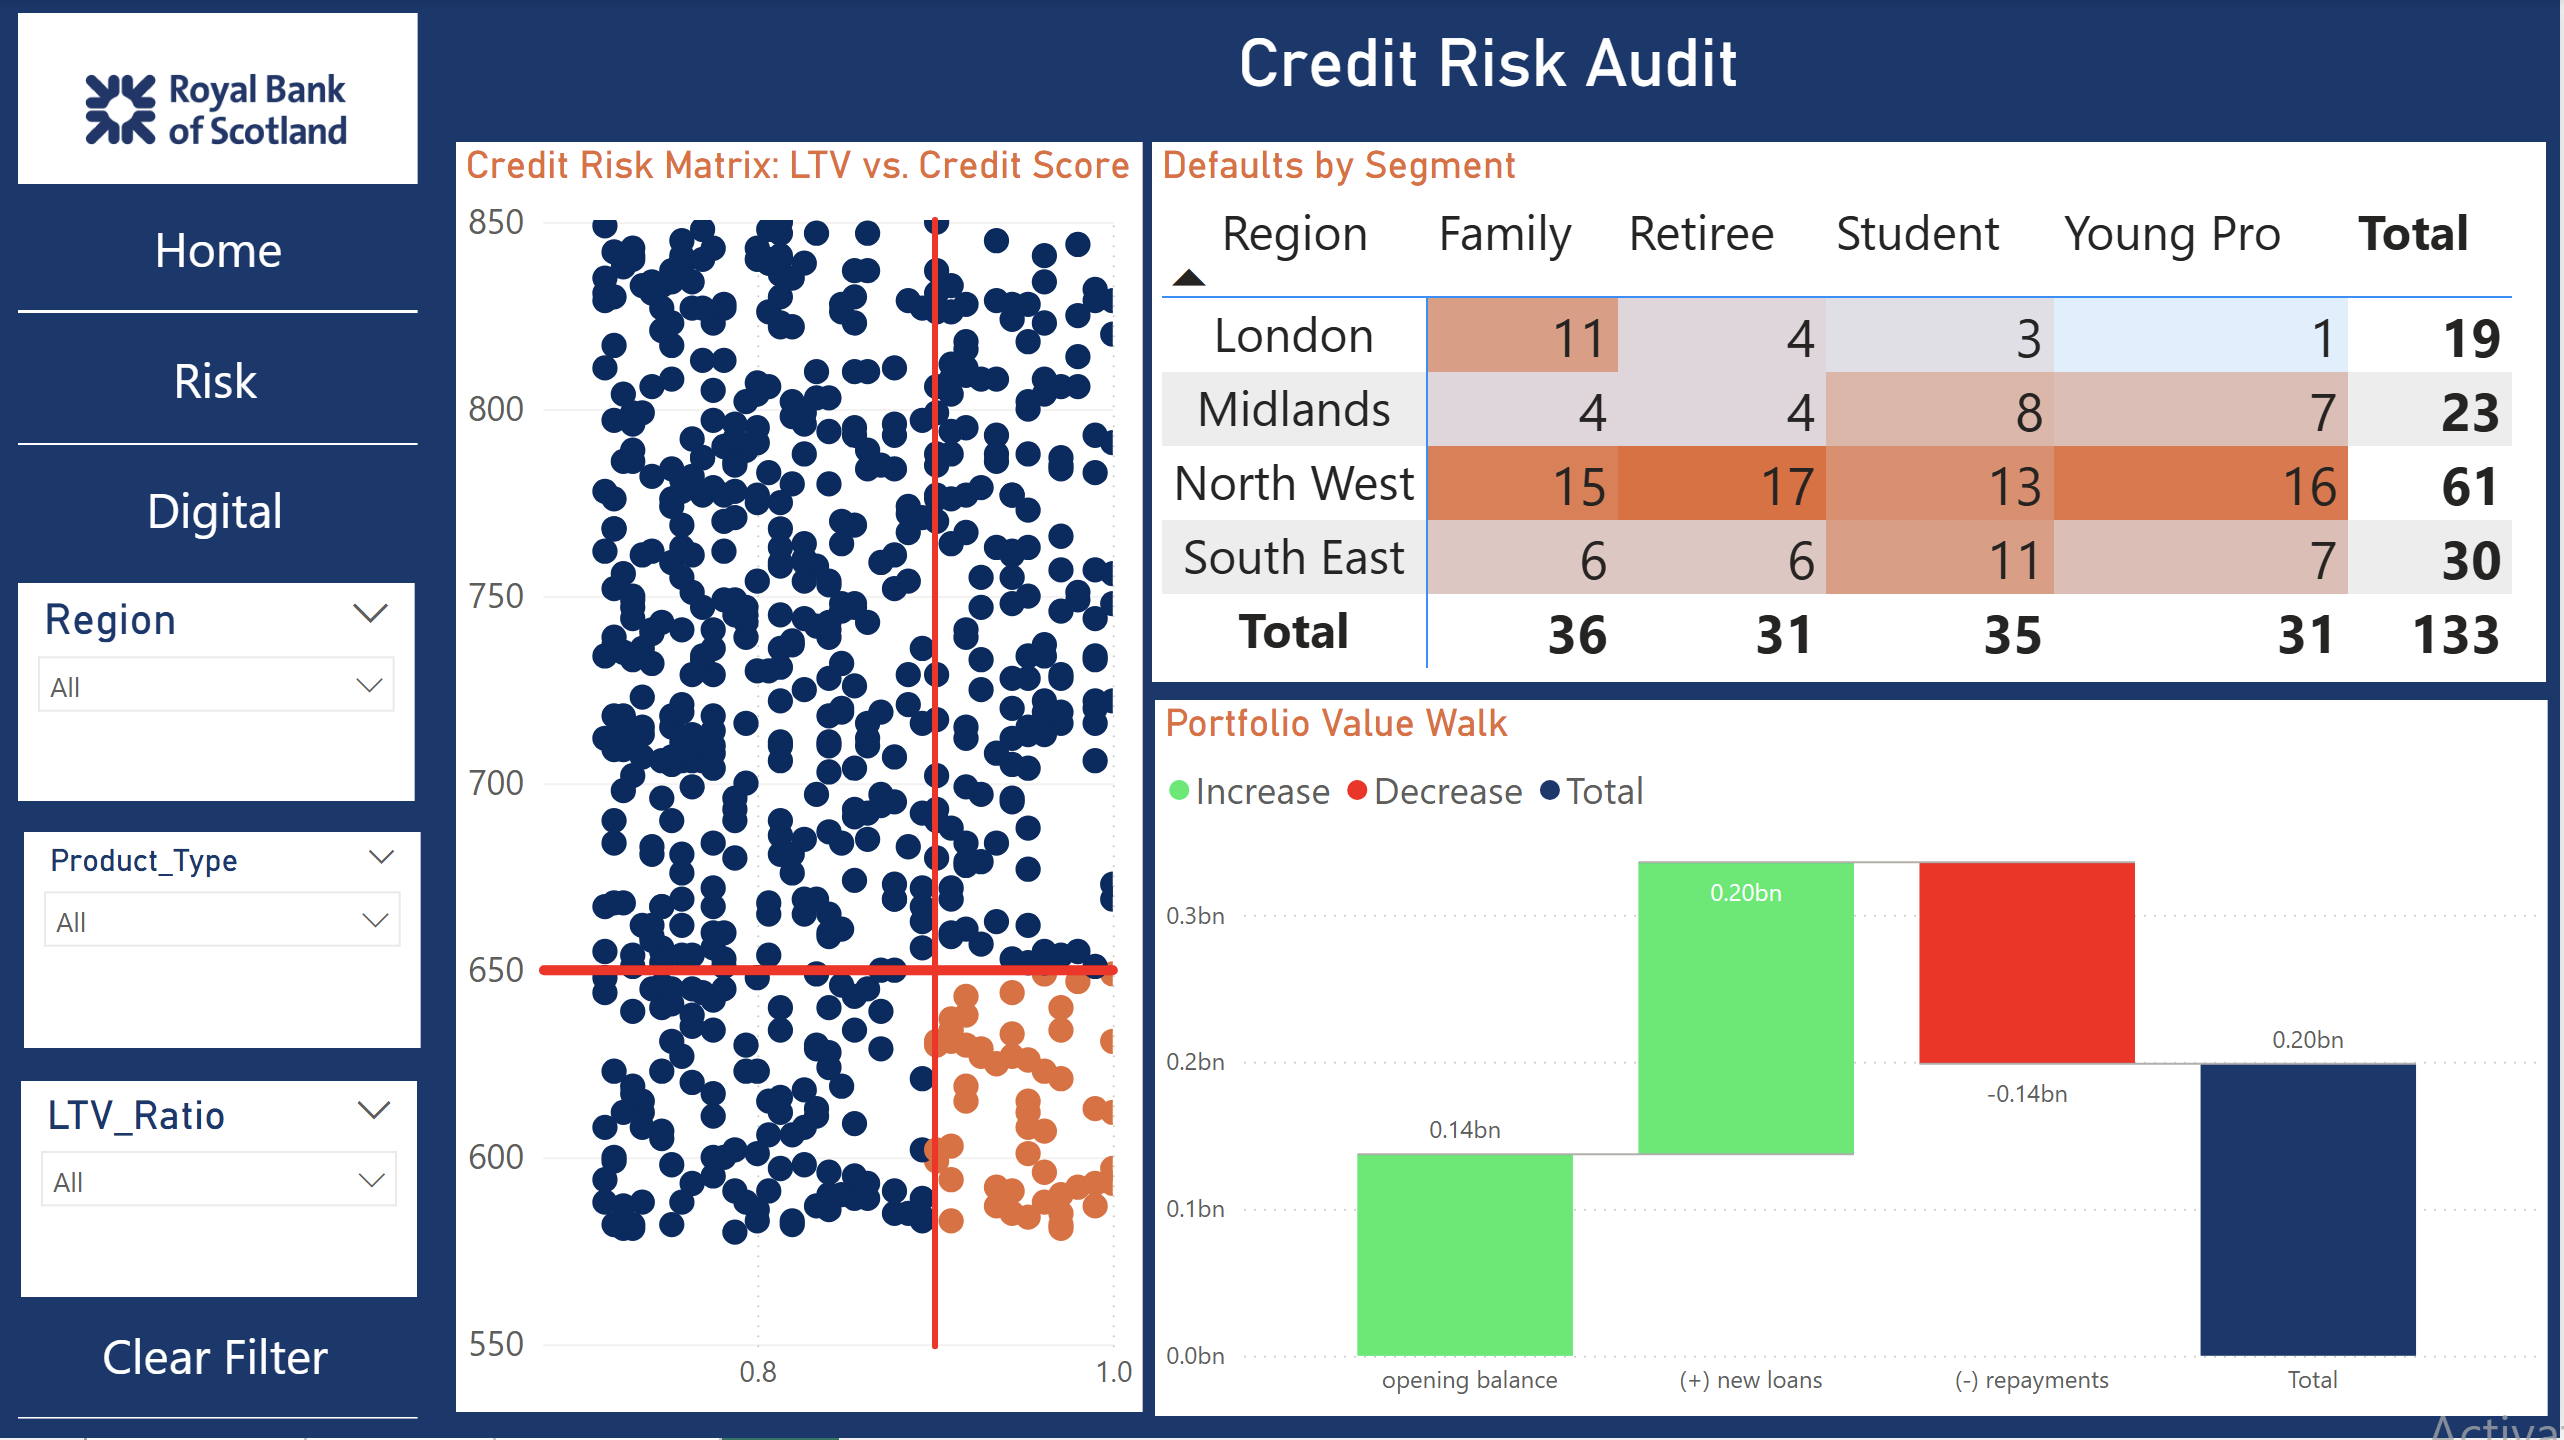

What the dashboard file says about the page in this screenshot:
{"tool":"powerbi","page":{"name":"Risk","canvas":[1280,720],"ordinal":1},"visuals":[{"type":"textbox","title":"CREDIT RISK","box":[219.2,8.1,1051.1,64.5],"z":1000},{"type":"shape","box":[9,7,199.9,702.9],"z":6000},{"type":"image","box":[9.7,8.1,198.3,96],"z":7000},{"type":"shape","box":[7,93.5,203,63],"z":8000},{"type":"shape","box":[6,158,203,65],"z":9000},{"type":"shape","box":[7,286,204,187],"z":10000},{"type":"shape","box":[6.7,224,203,63],"z":11000},{"type":"shape","box":[6,647,203,63],"z":12000},{"type":"shape","box":[6,473,204,176],"z":13000},{"type":"slicer","fields":{"Values":["Customer_R.Region"]},"box":[9.7,292,198.3,109],"z":13001},{"type":"slicer","fields":{"Values":["Loan_R.Product_Type"]},"box":[11.3,417,198.3,108],"z":13002},{"type":"slicer","fields":{"Values":["Loan_R.LTV_Ratio"]},"box":[10,542,198,108],"z":13003},{"type":"scatterChart","title":"Credit Risk Matrix: LTV vs. Credit Score","fields":{"Y":["Customer_R.Credit_Score"],"X":["Loan_R.LTV_Ratio"]},"box":[227.3,72.5,343.4,635.2],"z":13004},{"type":"pivotTable","title":"Defaults by Segment ","fields":{"Rows":["Customer_R.Region"],"Columns":["Customer_R.Segment"],"Values":["Monthly_Activity_R.Total Missed Payments"]},"box":[576.5,71.9,697,270],"z":13005},{"type":"waterfallChart","title":"Portfolio Value Walk  ","fields":{"Category":["waterfall_categories.category"],"Y":["waterfall_categories.Waterfall Values"]},"box":[577.1,351.4,696.4,357.9],"z":13006}]}

Visuals, with their boxes in screenshot pixels (x1, y1, x2, y2), scaled from the page's 1280x720 canvas onto the 2564x1440 screenshot:
"CREDIT RISK" textbox: 439, 16, 2545, 145
shape: 18, 14, 418, 1420
image: 19, 16, 417, 208
shape: 14, 187, 421, 313
shape: 12, 316, 419, 446
shape: 14, 572, 423, 946
shape: 13, 448, 420, 574
shape: 12, 1294, 419, 1420
shape: 12, 946, 421, 1298
slicer - Customer_R.Region: 19, 584, 417, 802
slicer - Loan_R.Product_Type: 23, 834, 420, 1050
slicer - Loan_R.LTV_Ratio: 20, 1084, 417, 1300
"Credit Risk Matrix: LTV vs. Credit Score" scatterChart: 455, 145, 1143, 1415
"Defaults by Segment " pivotTable: 1155, 144, 2551, 684
"Portfolio Value Walk  " waterfallChart: 1156, 703, 2551, 1419
